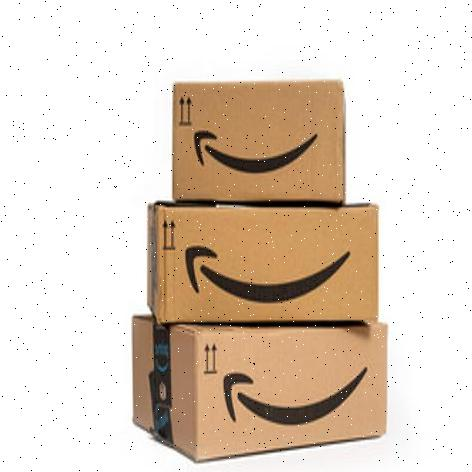Amazon: (126, 320, 390, 466), (147, 202, 381, 329), (169, 78, 348, 208)
